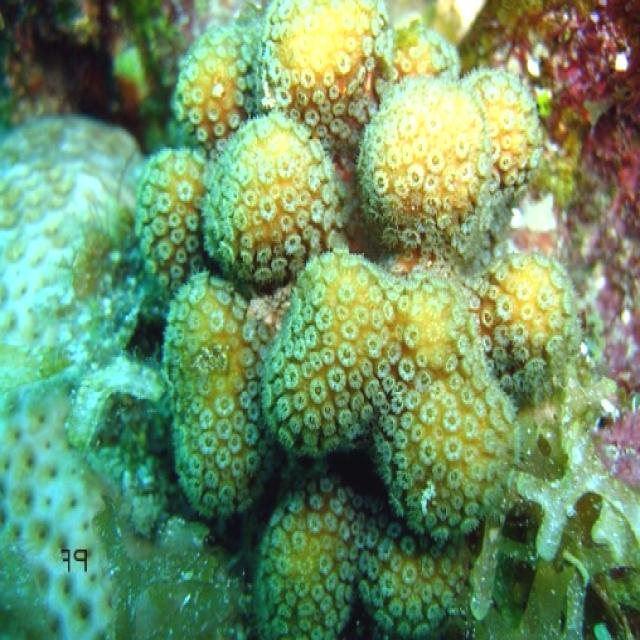Coral: (136, 0, 582, 640), (1, 117, 144, 640)
